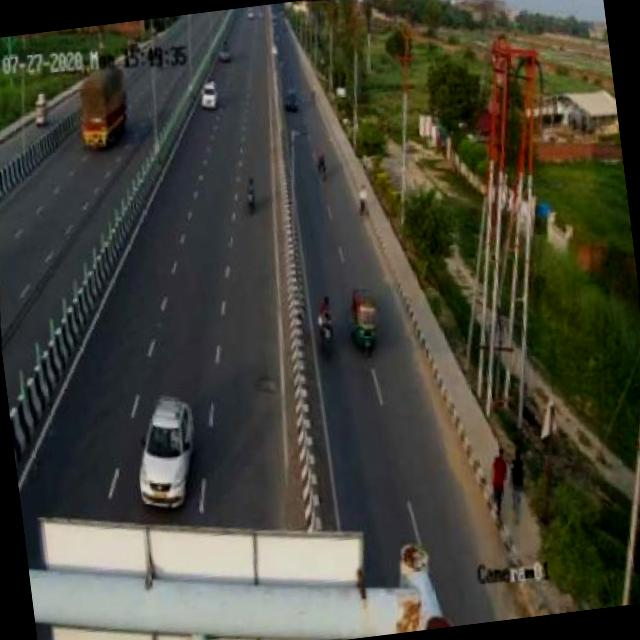car: (121, 382, 216, 518), (198, 78, 226, 119), (278, 84, 306, 114)
